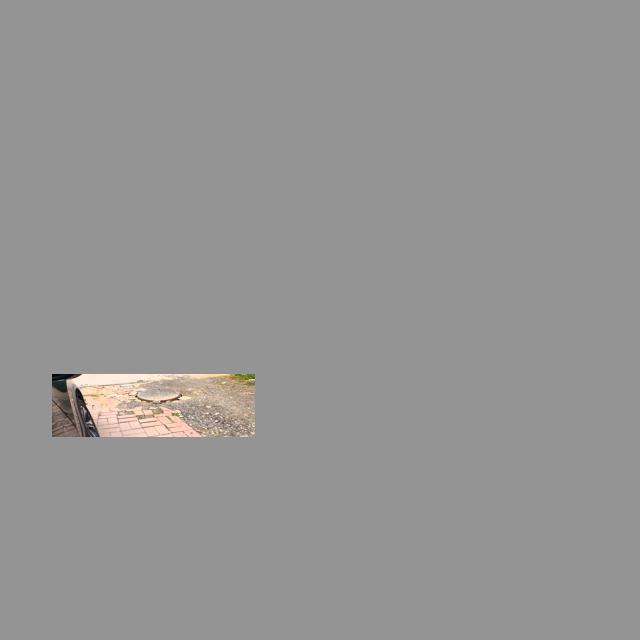circle: (119, 383, 196, 408)
